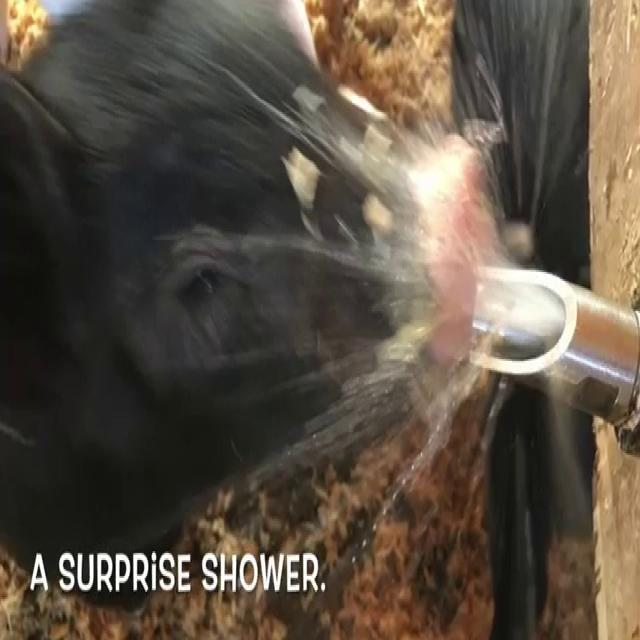pig: (0, 0, 504, 598)
